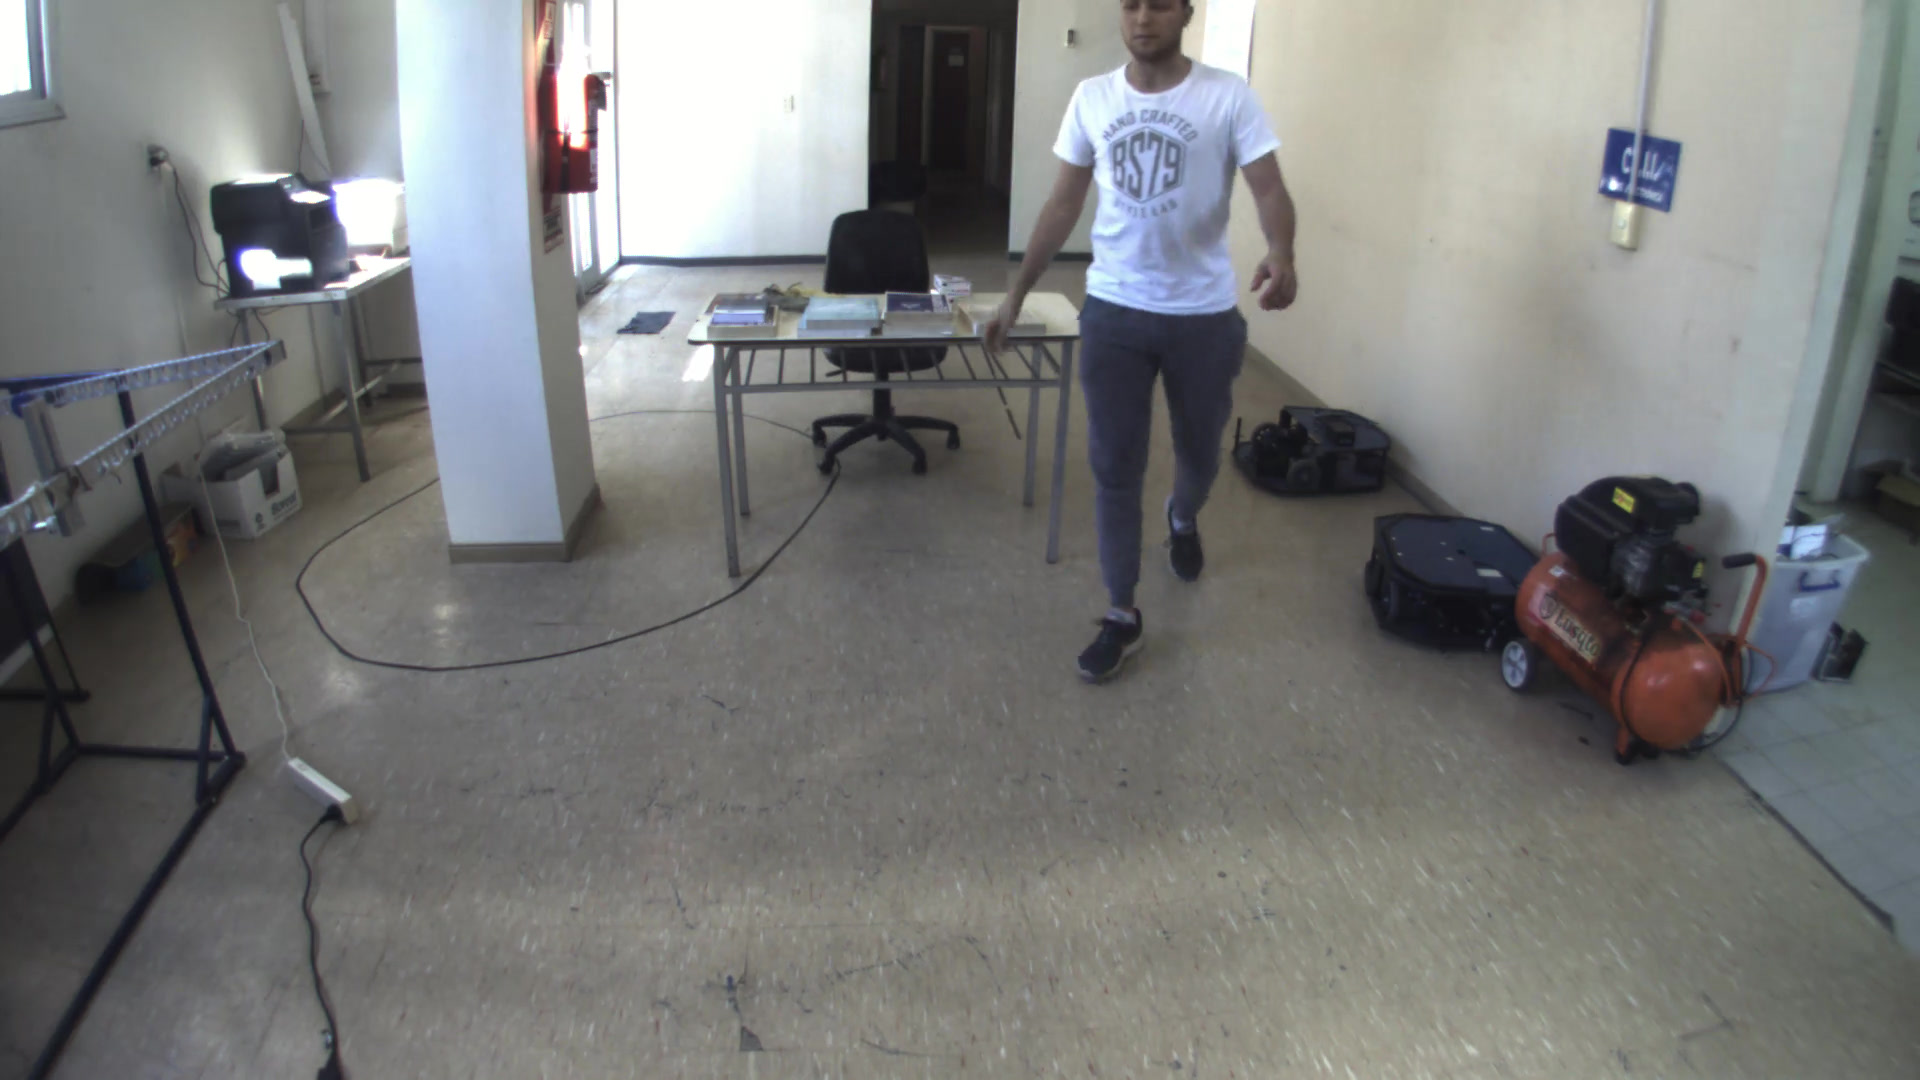hand: (1245, 235, 1304, 323), (975, 302, 1023, 361)
